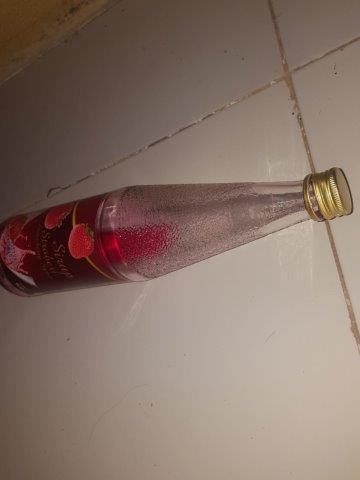botolkaca: (2, 166, 354, 297)
